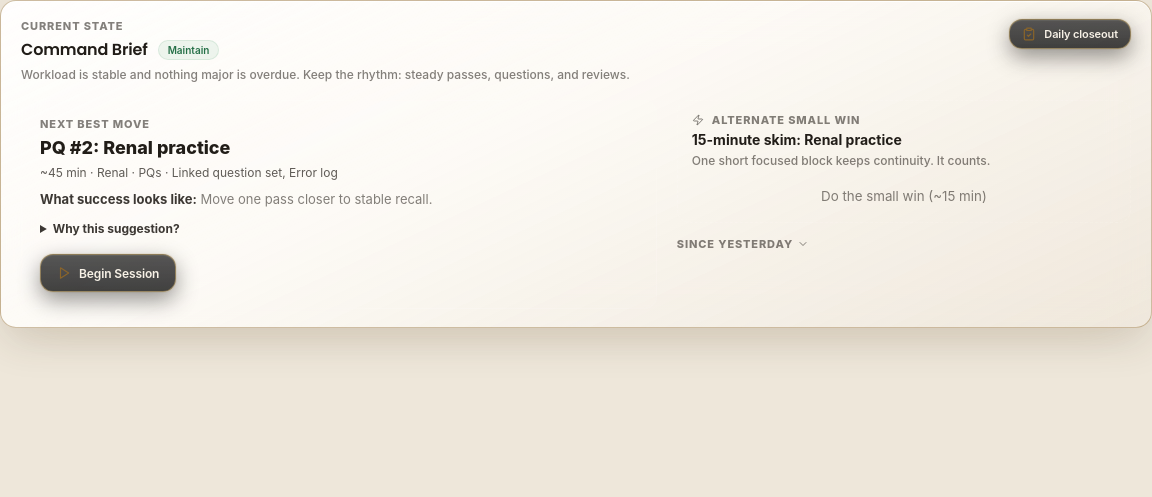
Test: CommandBrief recommendation provenance › renders the accepted brief once every evidence criterion is ready
Expected: the text "Current state" is shown, top-left (21, 19), bottom-right (123, 33)
Expected: the text "Next best move" is shown, top-left (40, 117), bottom-right (150, 131)
Click the heading "Why this suggestion?" at (110, 229), box top-left (40, 221), bottom-right (180, 236)
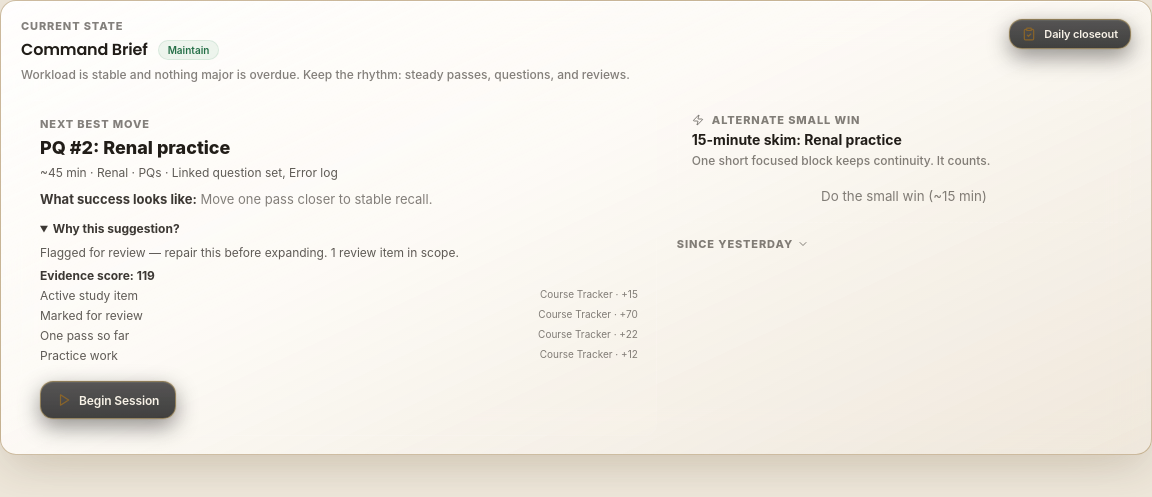
Expected: the text "Evidence score: 119" is shown, top-left (40, 268), bottom-right (155, 283)
Expected: the list named "Suggestion evidence" is shown, top-left (40, 288), bottom-right (638, 363)
Expected: the text "Course Tracker" is shown, top-left (540, 288), bottom-right (613, 300)
